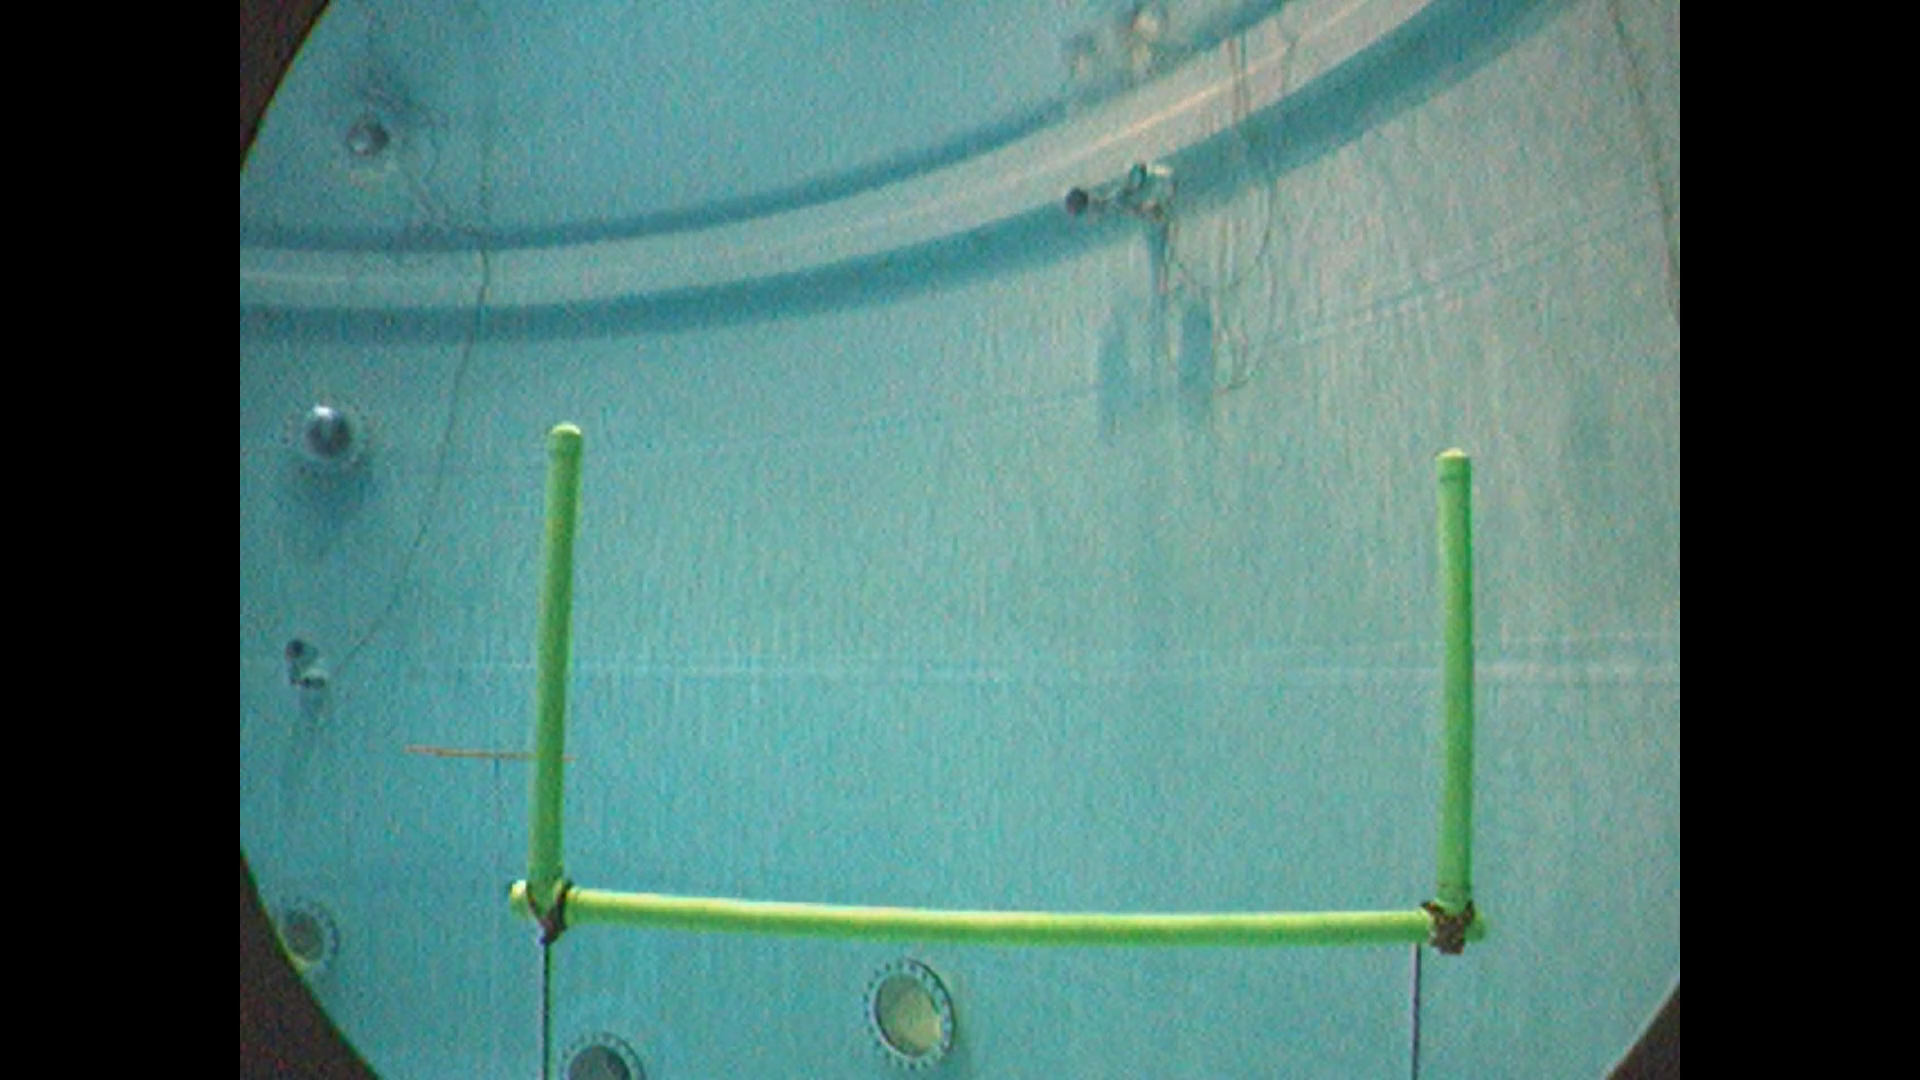gate: (508, 440, 1482, 942)
